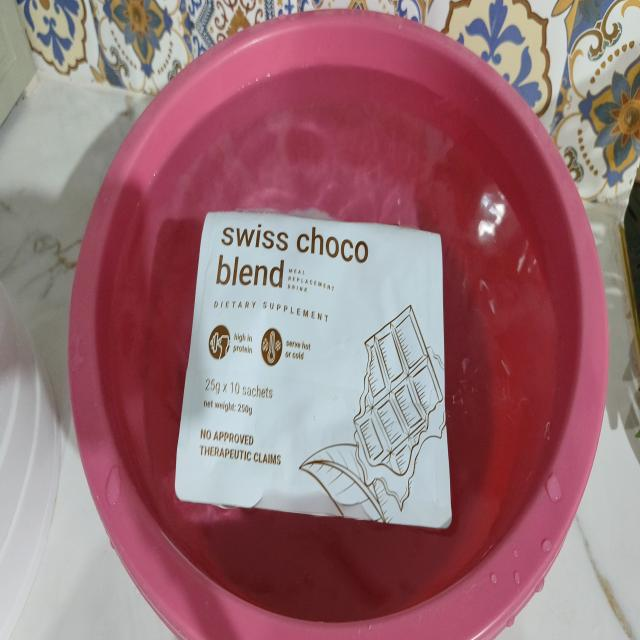Plastic Pouch: (175, 212, 451, 527)
